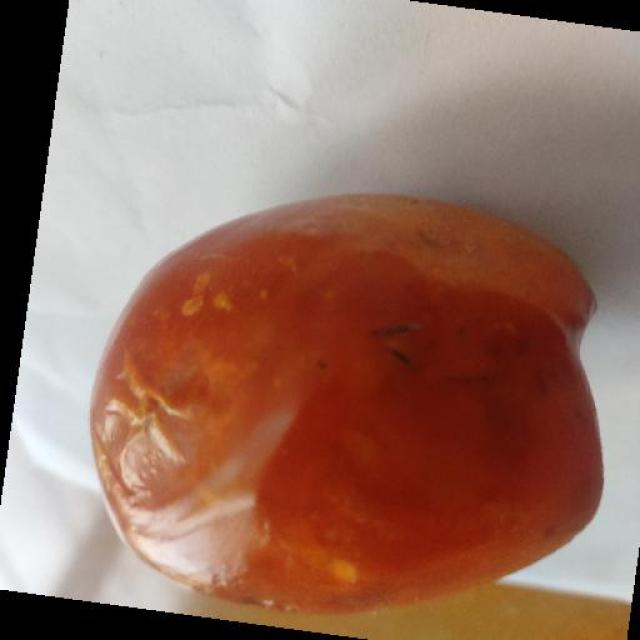Stale_tomato: (73, 237, 612, 601)
